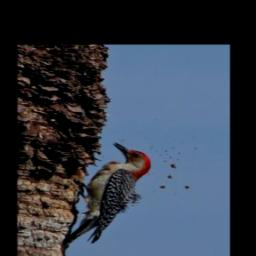Woodpecker: (60, 141, 153, 249)
